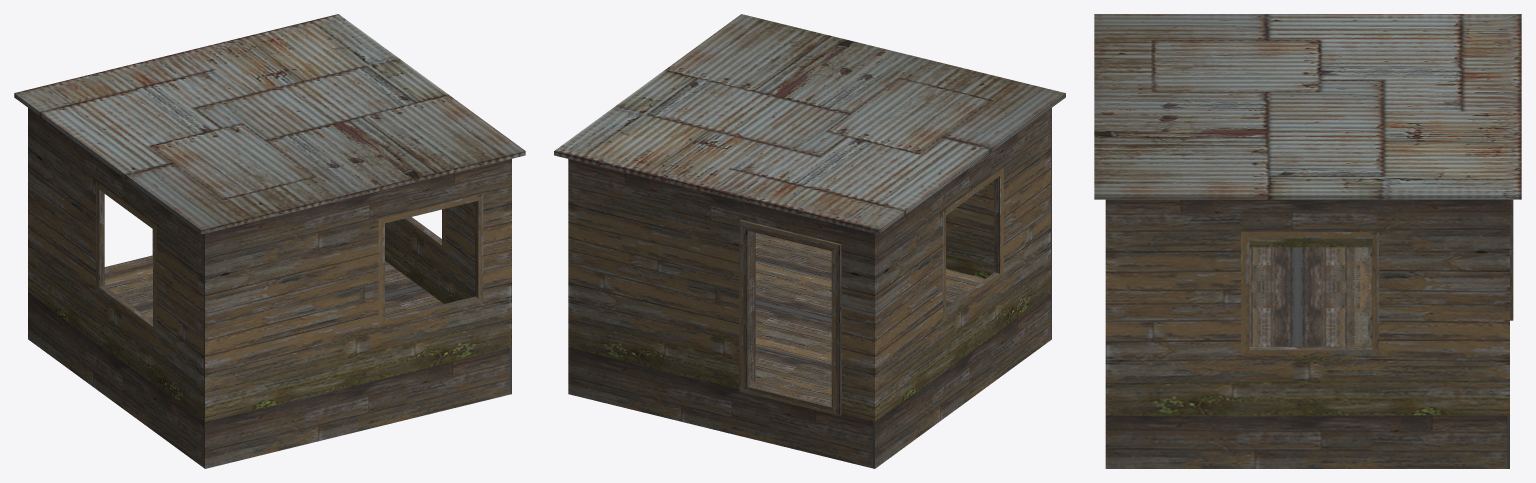
File: MiniBR_Building001.fbx
3 views of the same model, side by side, from view 1: azimuth 30°, elevation 25°; view 2: azimuth 150°, elevation 25°; view 3: azimuth 270°, elevation 25° (orthographic). The views are drawn at different scales.
Visible parts, largest first — view 1: MiniBR_Building001; view 2: MiniBR_Building001; view 3: MiniBR_Building001.
Boxes of the visible parts, left/top/right/bottom form: MiniBR_Building001: left=14, top=14, right=525, bottom=468; MiniBR_Building001: left=554, top=14, right=1065, bottom=468; MiniBR_Building001: left=1094, top=14, right=1521, bottom=468.
Size of the model in its own units: 419 by 419 by 302.
